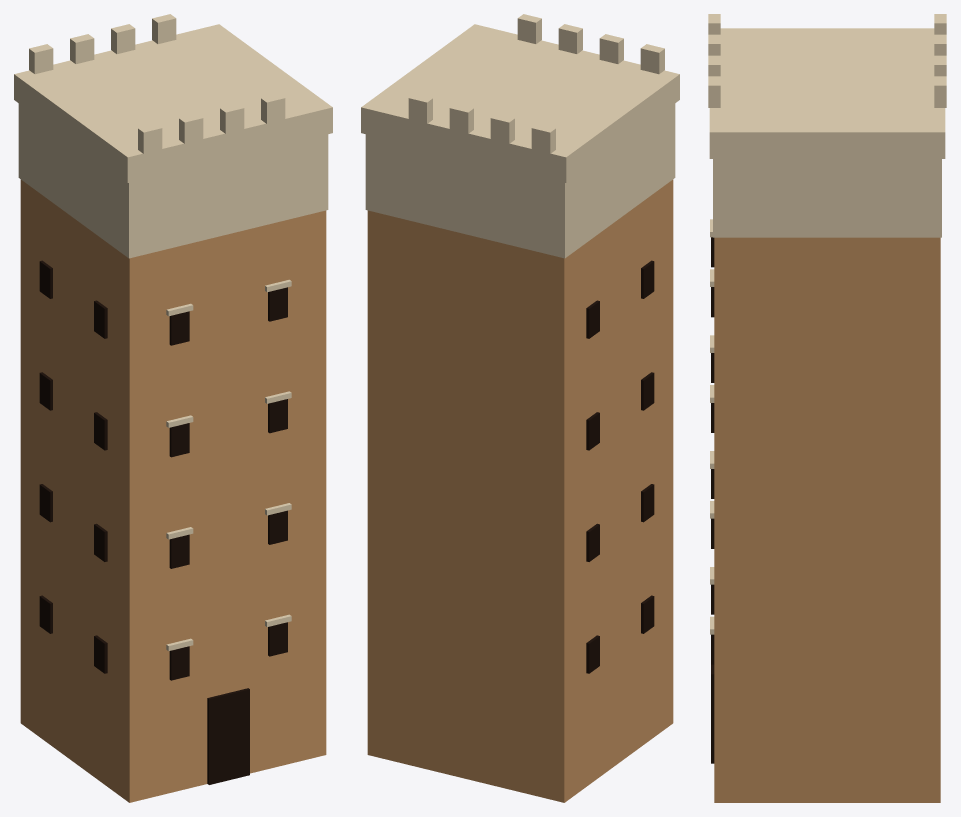
Rendered from tower_house_b.glb.
The picture shows the model from 3 angles, left to right: view 1: azimuth 30°, elevation 25°; view 2: azimuth 150°, elevation 25°; view 3: azimuth 270°, elevation 25°; orthographic projection. The views are drawn at different scales.
Visible parts, largest first — view 1: TowerHouse; view 2: TowerHouse; view 3: TowerHouse.
Boxes of the visible parts, x1,y1,x2,y2 form: TowerHouse: [14, 14, 332, 802]; TowerHouse: [361, 14, 679, 802]; TowerHouse: [708, 14, 946, 802].
Bounding box in the file's own units: 5 × 15.6 × 4.85.
